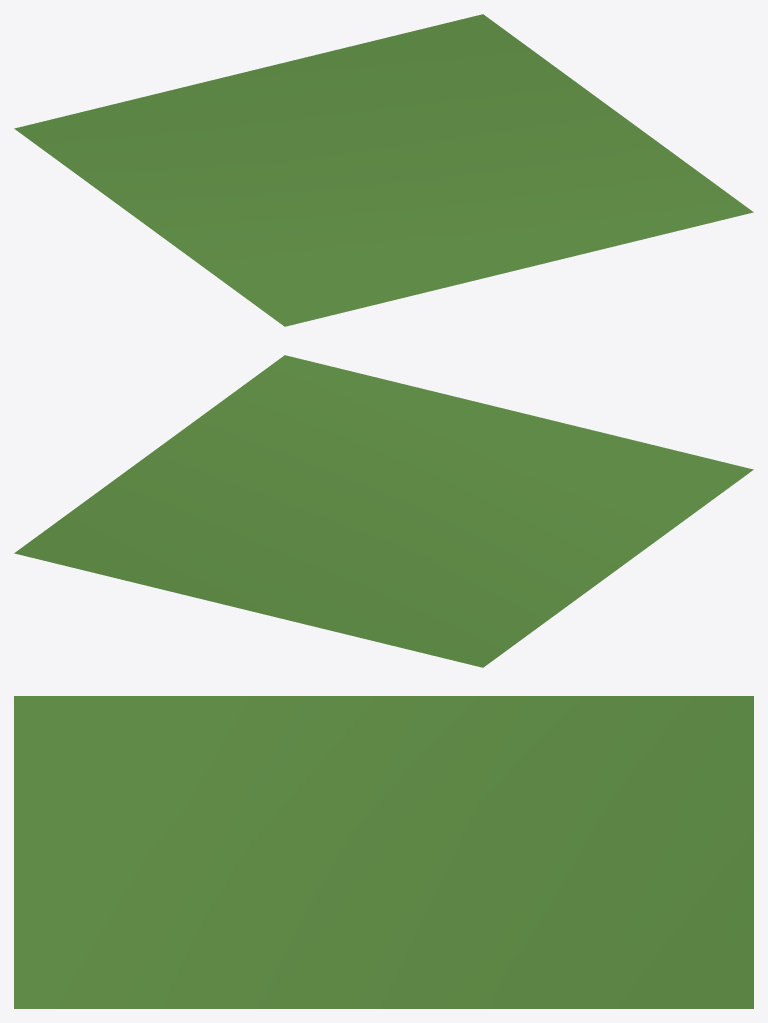
Rendered from terrain_14_2_2.glb.
3 views of the same model, one above another, from view 1: azimuth 30°, elevation 25°; view 2: azimuth 150°, elevation 25°; view 3: azimuth 270°, elevation 25° (orthographic). The views are drawn at different scales.
Parts seen in each view (by area): view 1: m; view 2: m; view 3: m.
Boxes of the visible parts, x1,y1,x2,y2 form: m: [14, 14, 753, 326]; m: [14, 355, 753, 667]; m: [14, 696, 753, 1008].
Bounding box in the file's own units: 4 × 0 × 4.
